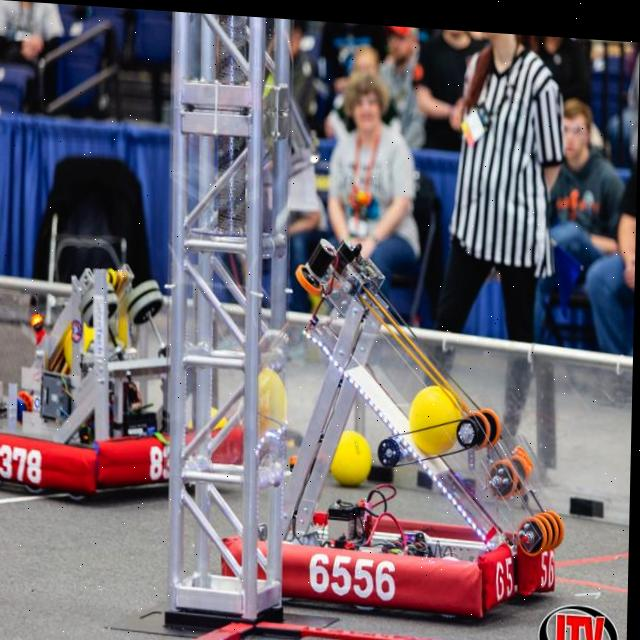robot: (221, 216, 573, 619), (0, 233, 263, 514)
